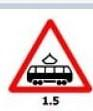road_sign: (6, 17, 93, 95)
